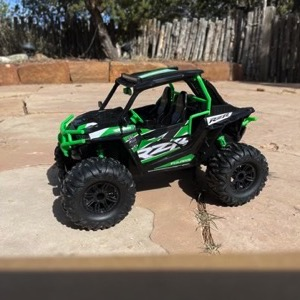polaris: (50, 66, 271, 233)
